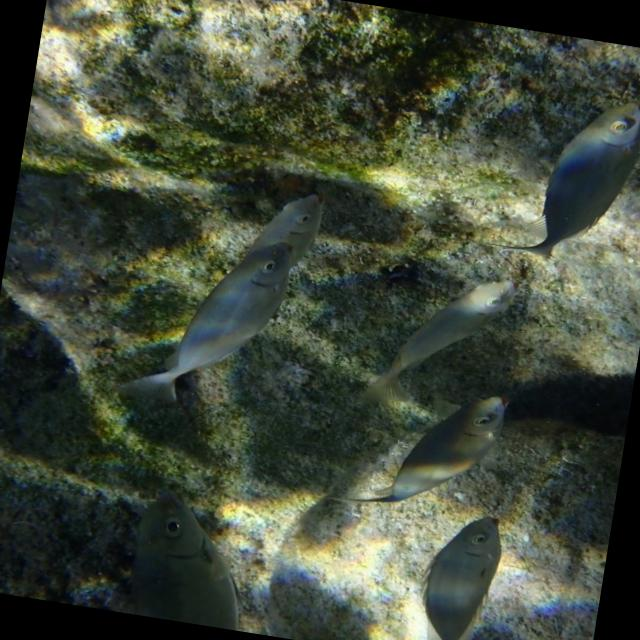Sokar Baligi: (312, 358, 519, 542), (474, 73, 640, 283), (398, 505, 522, 640)
